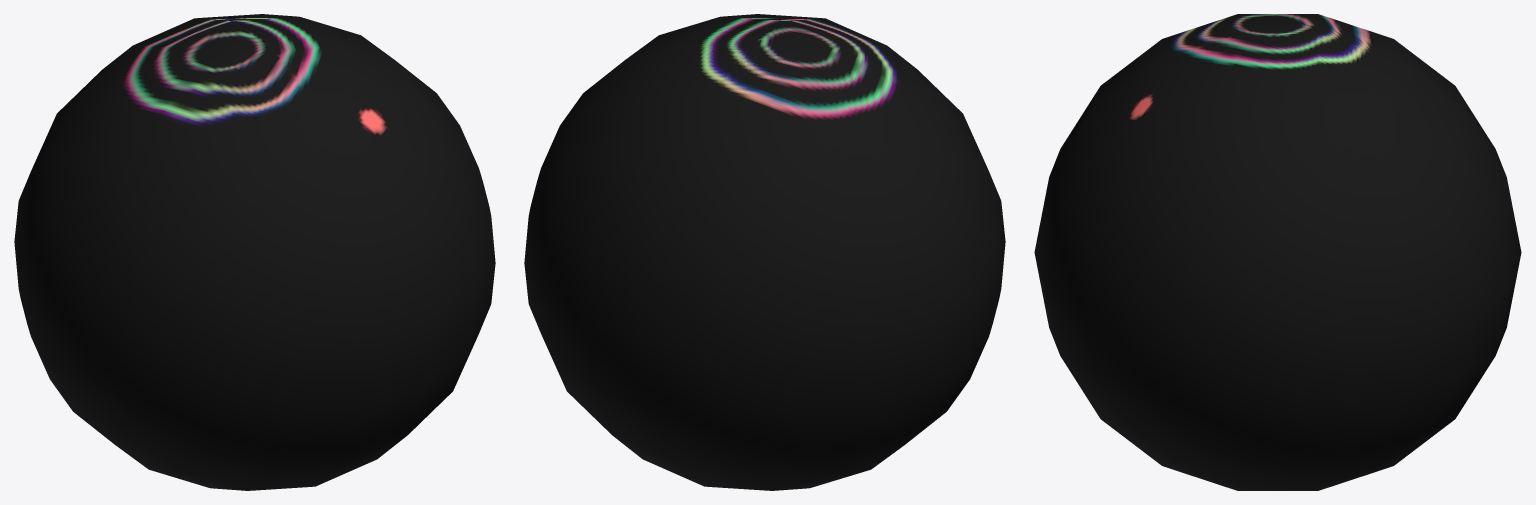
Rendered from CCTV camera.fbx.
The picture shows the model from 3 angles, left to right: view 1: azimuth 30°, elevation 25°; view 2: azimuth 150°, elevation 25°; view 3: azimuth 270°, elevation 25°; orthographic projection.
Parts seen in each view (by area): view 1: Camera; view 2: Camera; view 3: Camera.
Boxes of the visible parts, x1,y1,x2,y2 form: Camera: [14, 14, 495, 490]; Camera: [524, 14, 1005, 490]; Camera: [1034, 14, 1521, 490].
Bounding box in the file's own units: 7 × 7 × 6.89.
1 material, 1 textured.
